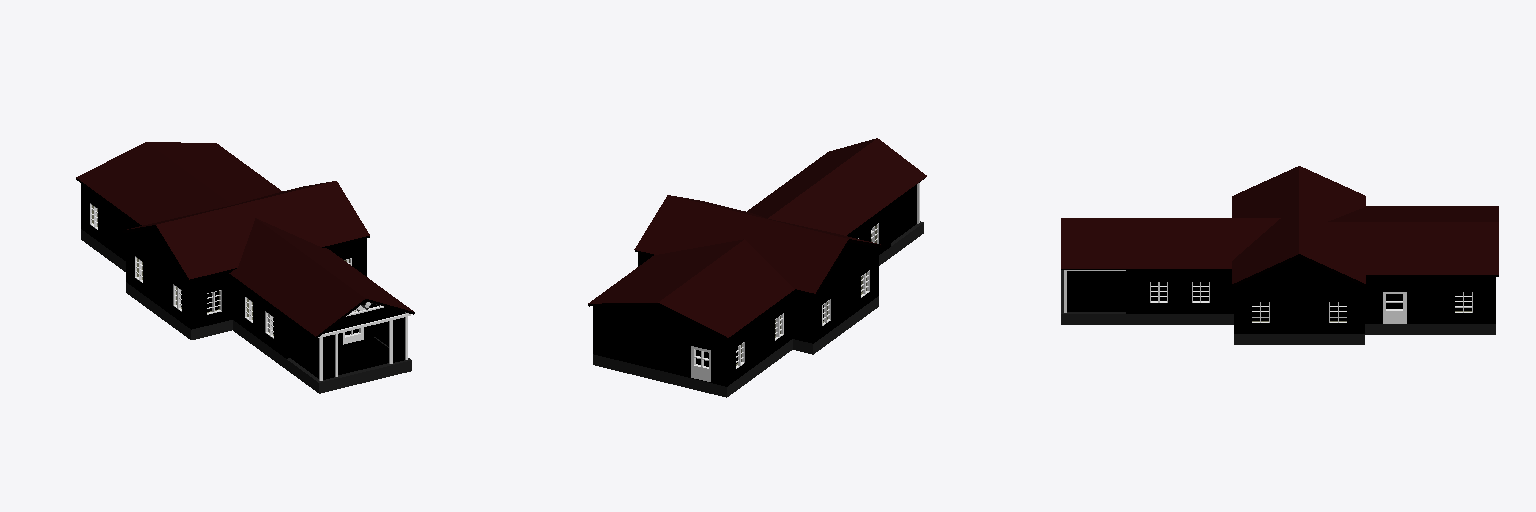
3 renders of one model, left to right at view 1: azimuth 30°, elevation 25°; view 2: azimuth 150°, elevation 25°; view 3: azimuth 270°, elevation 25°, orthographic.
Parts seen in each view (by area): view 1: MiddleRoom, FrontRoom_II, RearRoom, FrontRoom_II LatticeTopMiddle, FrontRoom_II LatticeLeftLower; view 2: RearRoom, MiddleRoom, FrontRoom_II, FrontRoom_II LatticeLeftLower; view 3: MiddleRoom, RearRoom, FrontRoom_II, FrontRoom_II LatticeRightLower, FrontRoom_II LatticeRightUpper, RearRoom RearDoor.
Boxes of the visible parts, <box> form: MiddleRoom: <box>122,181,369,339</box>; FrontRoom_II: <box>229,218,414,393</box>; RearRoom: <box>76,142,282,271</box>; FrontRoom_II LatticeTopMiddle: <box>324,307,404,333</box>; FrontRoom_II LatticeLeftLower: <box>290,337,318,378</box>; RearRoom: <box>588,239,794,397</box>; MiddleRoom: <box>634,195,881,354</box>; FrontRoom_II: <box>747,138,926,265</box>; FrontRoom_II LatticeLeftLower: <box>891,203,916,242</box>; MiddleRoom: <box>1232,166,1365,344</box>; RearRoom: <box>1327,206,1498,334</box>; FrontRoom_II: <box>1061,218,1280,324</box>; FrontRoom_II LatticeRightLower: <box>1067,291,1125,311</box>; FrontRoom_II LatticeRightUpper: <box>1067,271,1125,290</box>; RearRoom RearDoor: <box>1383,292,1406,323</box>.
Bounding box in the file's own units: 17.5 × 8.53 × 36.75.
12 materials, 1 textured.